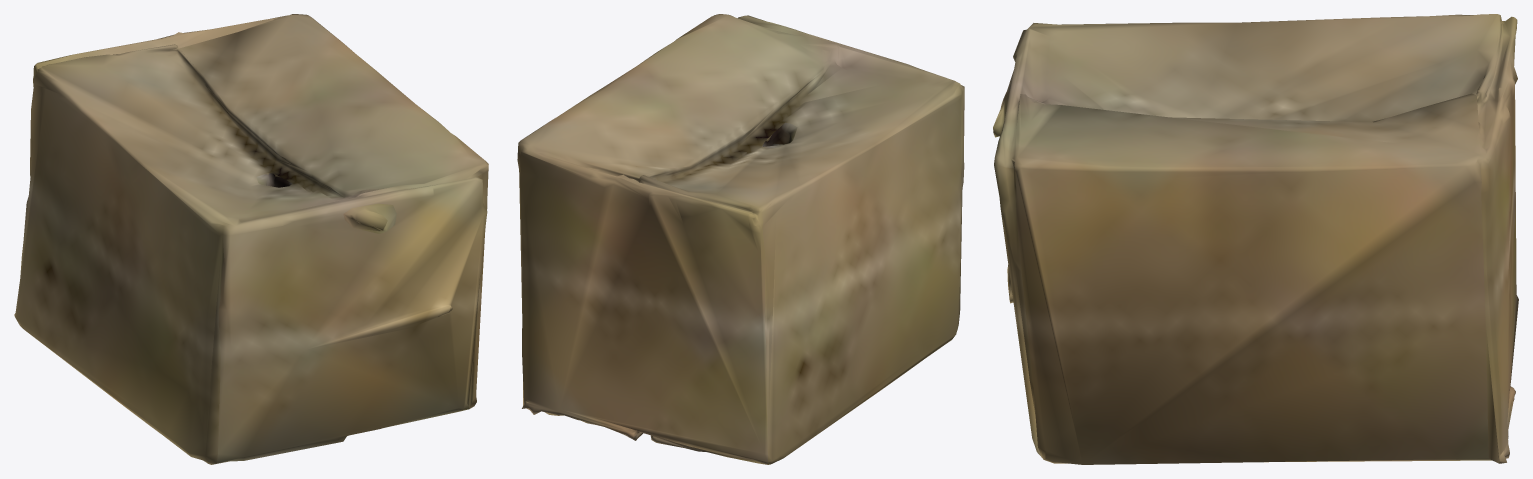
3 views of the same model, side by side, from view 1: azimuth 30°, elevation 25°; view 2: azimuth 150°, elevation 25°; view 3: azimuth 270°, elevation 25° (orthographic). The views are drawn at different scales.
Visible parts, largest first — view 1: cardboard_box_01; view 2: cardboard_box_01; view 3: cardboard_box_01.
Boxes of the visible parts, bbox=[...] form: cardboard_box_01: bbox=[14, 14, 488, 464]; cardboard_box_01: bbox=[517, 14, 964, 464]; cardboard_box_01: bbox=[993, 14, 1518, 464].
Bounding box in the file's own units: 0.3827 × 0.3418 × 0.5159.
Materials: 1 (1 with a texture image).
